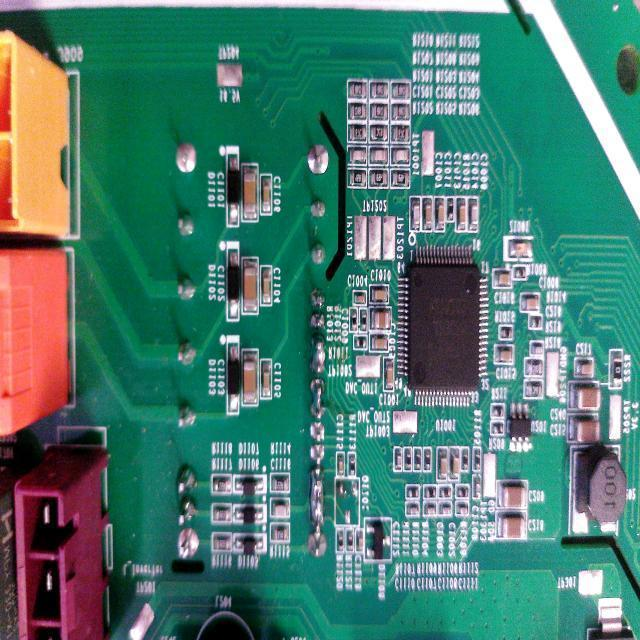Soldering shorted: (305, 468, 330, 532), (310, 322, 330, 378), (308, 376, 328, 422)
